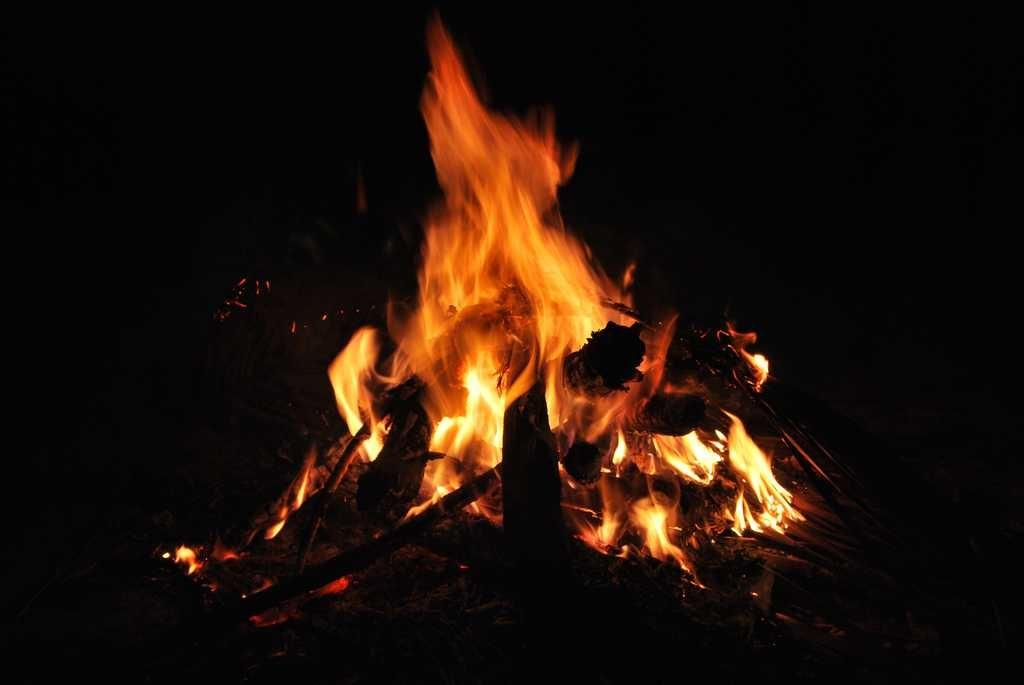fire: (375, 75, 625, 522)
